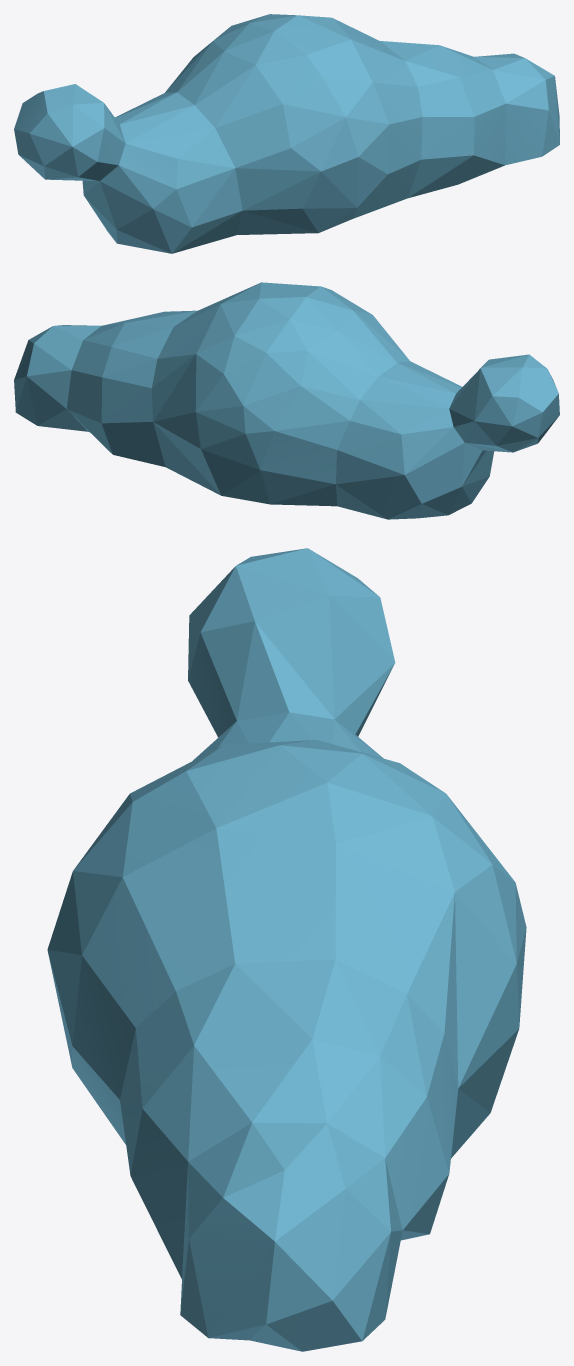
Rendered from small_cloud_23.fbx.
3 views of the same model, one above another, from view 1: azimuth 30°, elevation 25°; view 2: azimuth 150°, elevation 25°; view 3: azimuth 270°, elevation 25° (orthographic). The views are drawn at different scales.
Parts seen in each view (by area): view 1: cloud_33; view 2: cloud_33; view 3: cloud_33.
Boxes of the visible parts, x1,y1,x2,y2 form: cloud_33: [14, 14, 559, 253]; cloud_33: [14, 282, 559, 519]; cloud_33: [47, 548, 526, 1351].
Bounding box in the file's own units: 662 × 213 × 259.
